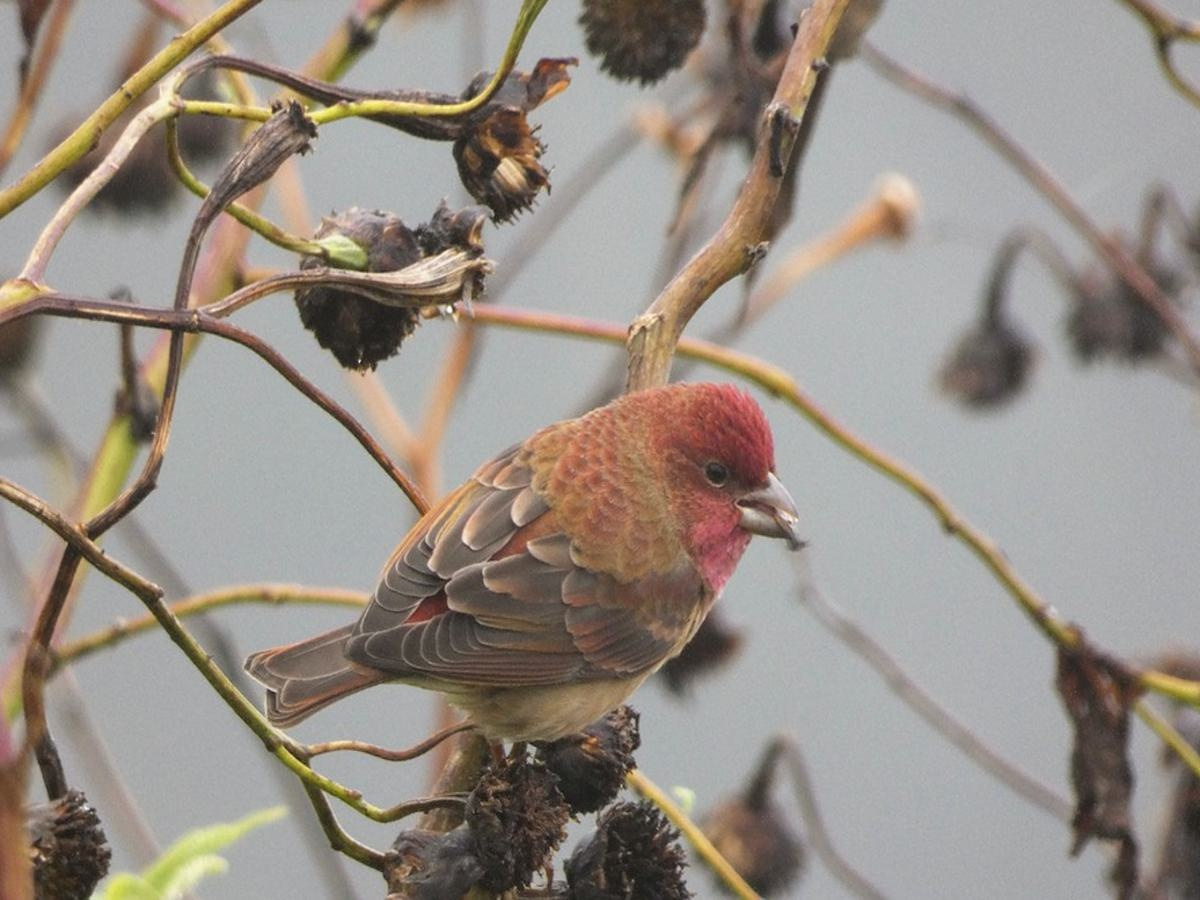rosefinch: (378, 383, 826, 725)
